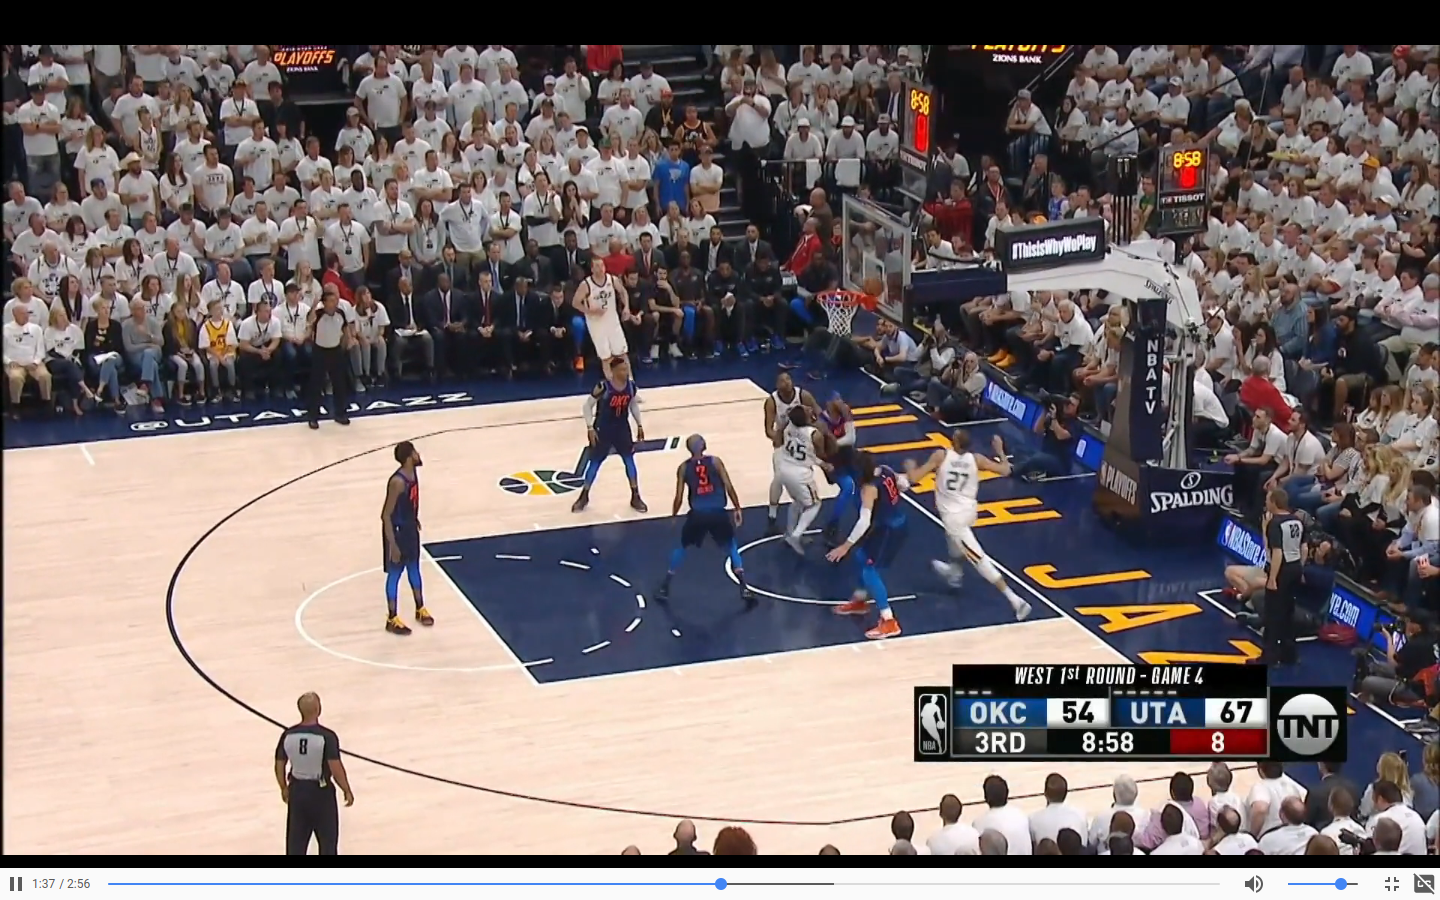basketball: (856, 269, 888, 303)
basketball player: (919, 428, 1036, 608), (658, 426, 752, 611), (568, 357, 650, 519), (379, 429, 438, 648), (856, 448, 910, 640), (572, 254, 642, 374), (779, 412, 835, 545), (758, 366, 827, 431)
referee: (270, 686, 355, 852), (1258, 477, 1312, 671), (296, 289, 364, 428)
